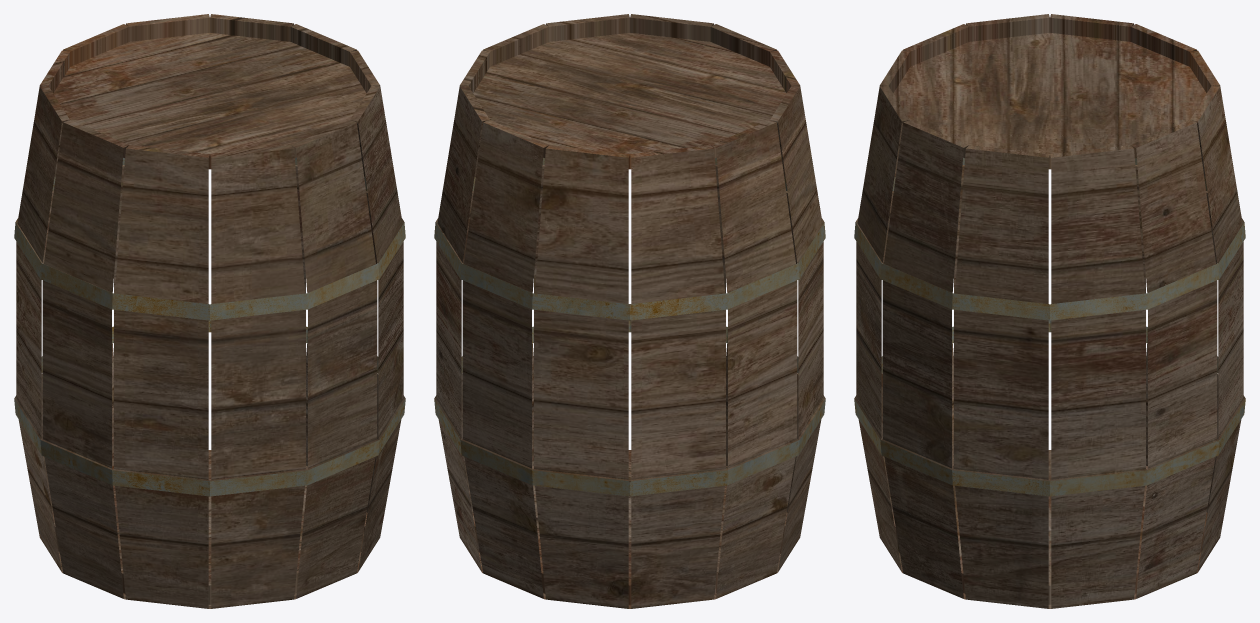
The model's file is barrel.glb.
The picture shows the model from 3 angles, left to right: view 1: azimuth 30°, elevation 25°; view 2: azimuth 150°, elevation 25°; view 3: azimuth 270°, elevation 25°; orthographic projection.
Visible parts, largest first — view 1: barrel, loops; view 2: barrel, loops; view 3: barrel, loops.
Boxes of the visible parts, x1,y1,x2,y2 form: barrel: [14, 14, 405, 608]; loops: [14, 157, 405, 496]; barrel: [434, 14, 825, 608]; loops: [434, 157, 825, 496]; barrel: [854, 14, 1245, 608]; loops: [854, 157, 1245, 496].
Size of the model in its own units: 1.57 by 2 by 1.57.
2 materials, 2 textured.
